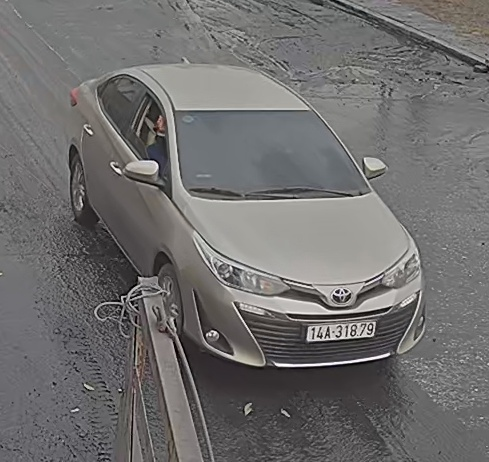vehicle plate: (296, 311, 382, 341)
